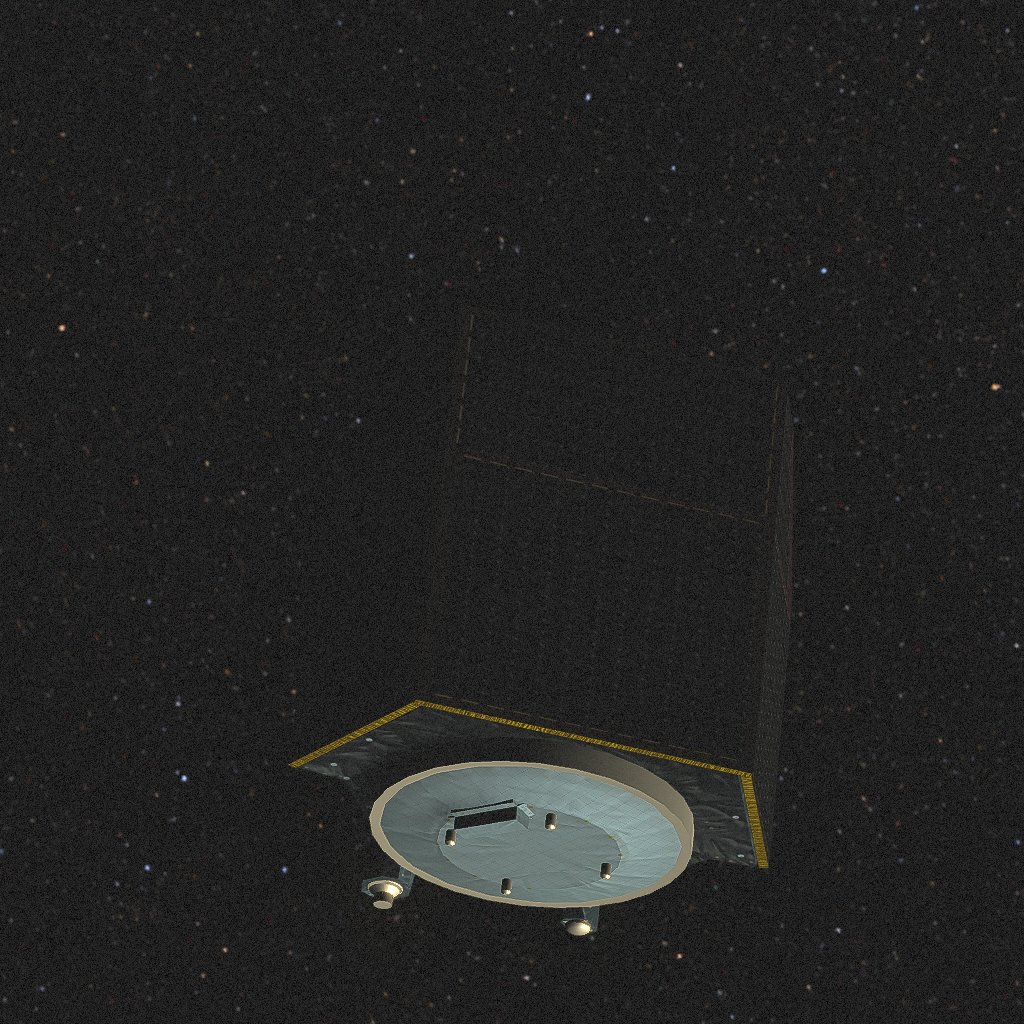cheops: (288, 305, 794, 935)
